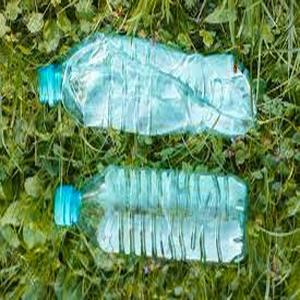Plastic: (35, 33, 256, 139), (53, 165, 249, 263)
